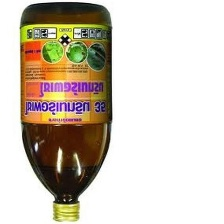insecticide: (18, 0, 114, 223)
